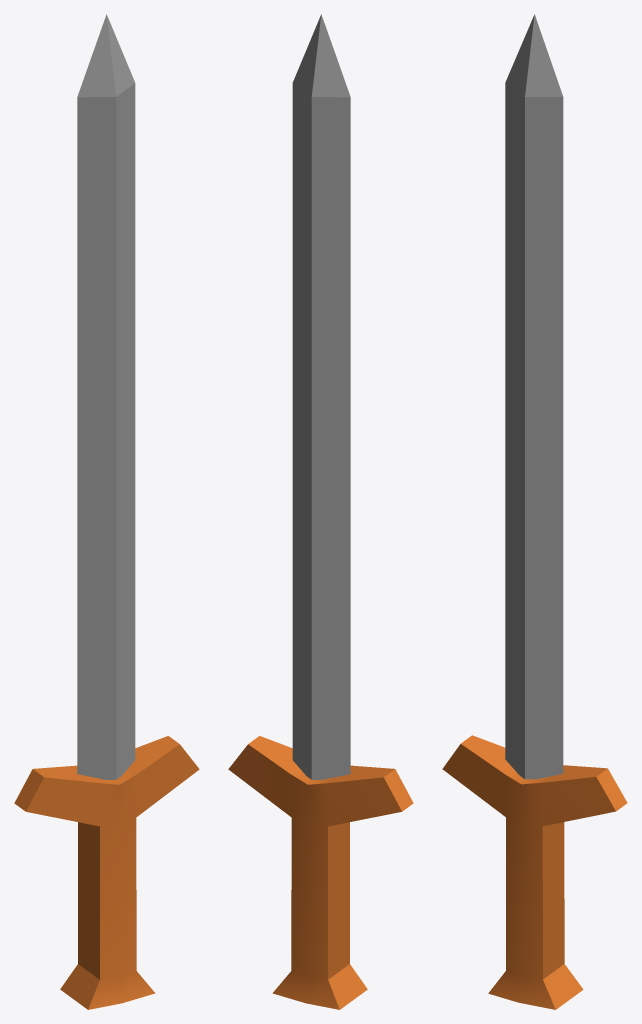
File: sword1.fbx
3 renders of one model, left to right at view 1: azimuth 30°, elevation 25°; view 2: azimuth 150°, elevation 25°; view 3: azimuth 330°, elevation 25°, orthographic.
Parts seen in each view (by area): view 1: polySurface4; view 2: polySurface4; view 3: polySurface4.
Boxes of the visible parts, x1,y1,x2,y2 form: polySurface4: (14,14,199,1009); polySurface4: (228,14,413,1009); polySurface4: (442,14,627,1009).
Bounding box in the file's own units: 5.05 × 27.16 × 1.58.
